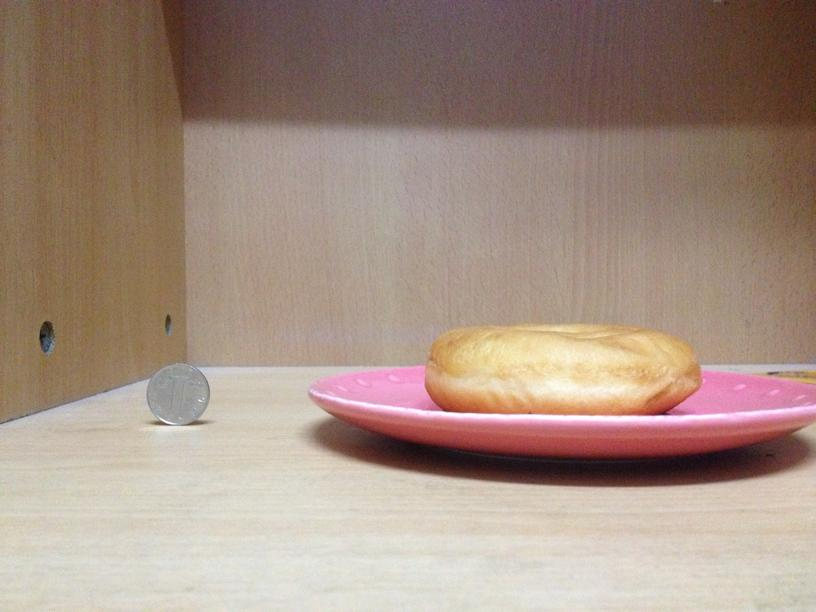coin: (142, 359, 210, 425)
doughnut: (423, 326, 701, 413)
